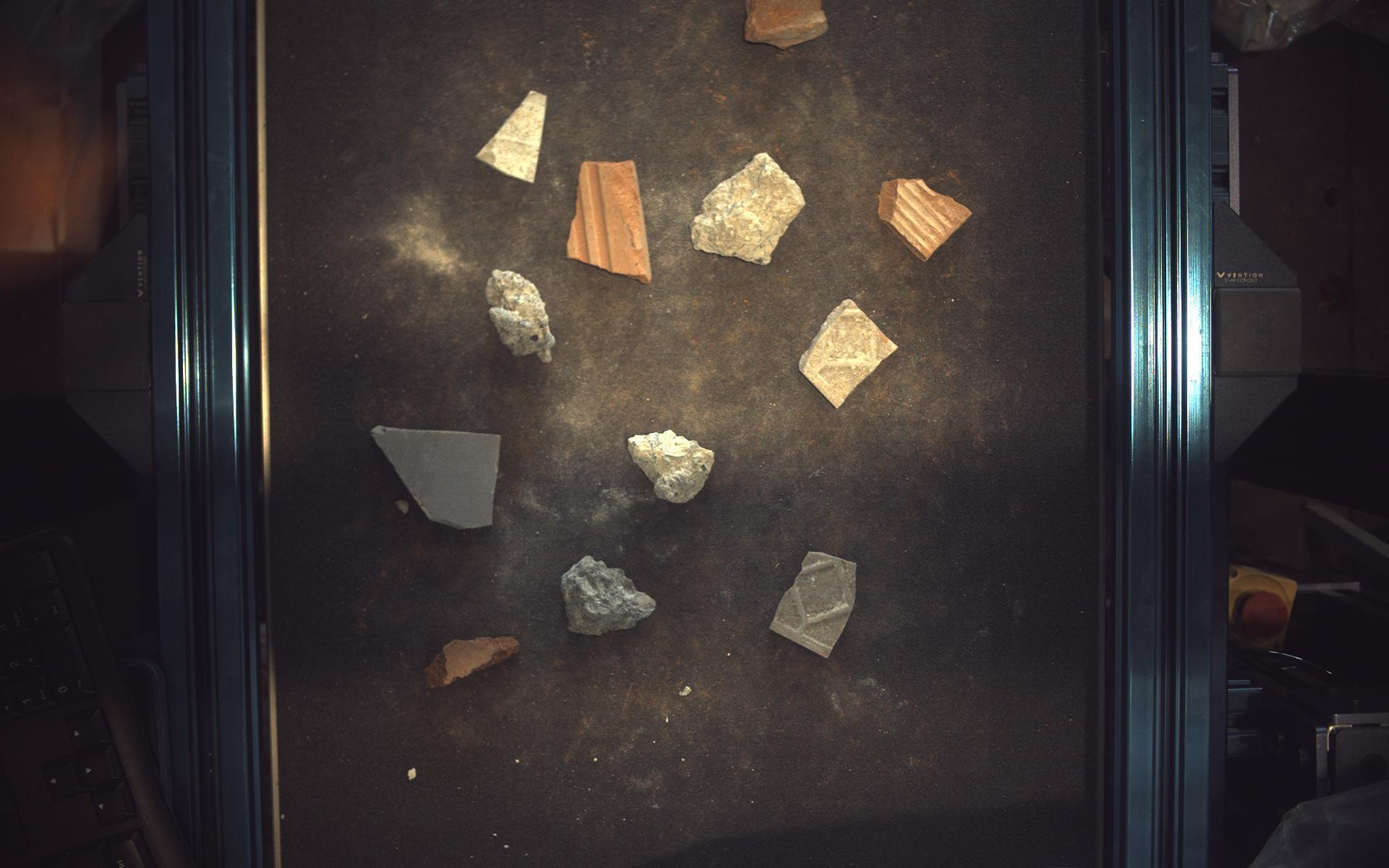brick: (567, 159, 653, 283), (880, 178, 973, 260), (425, 637, 519, 689), (747, 1, 830, 47)
concrete: (692, 151, 807, 264), (561, 556, 657, 637), (486, 269, 556, 362), (629, 430, 715, 504)
tile: (370, 426, 501, 529), (800, 299, 899, 408), (771, 552, 859, 658), (477, 90, 547, 182)
